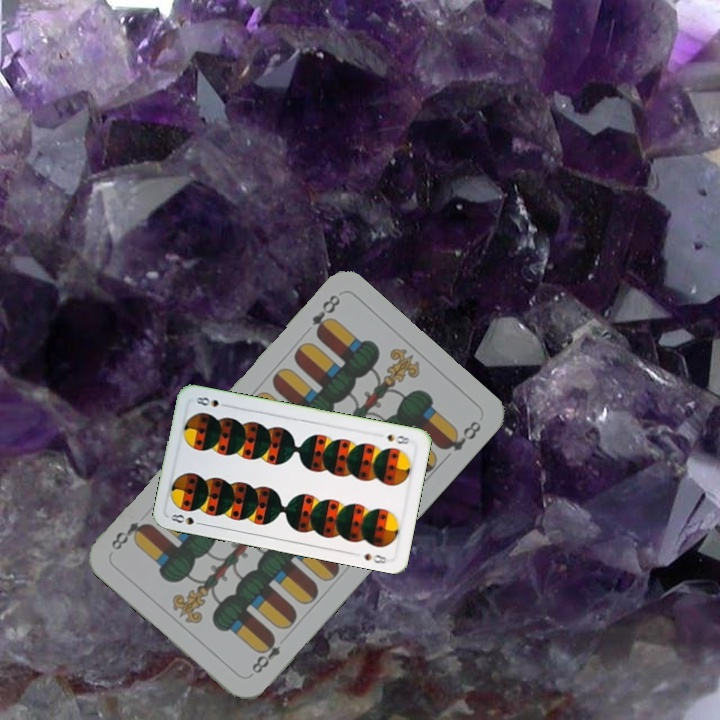E8: (307, 290, 343, 340), (246, 631, 283, 679)
S8: (166, 510, 207, 528), (383, 430, 413, 447)
